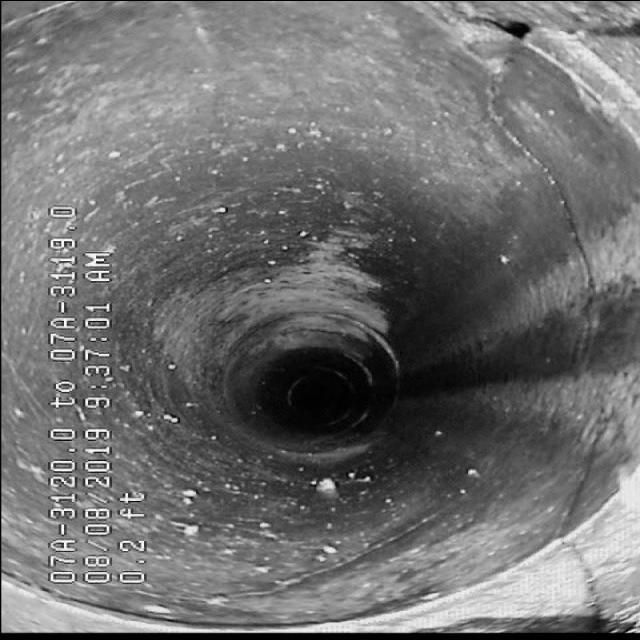Crack: (460, 77, 616, 270), (190, 512, 412, 618)
